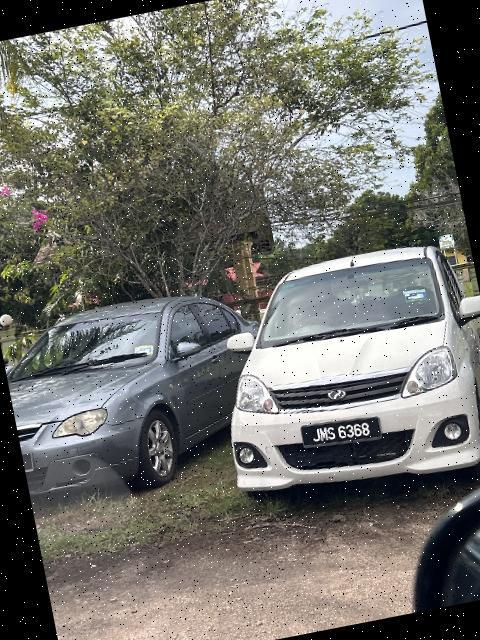JMS6368: (300, 410, 385, 455)
License_Plate: (300, 410, 385, 455)
car: (196, 231, 480, 519), (1, 271, 279, 510)
